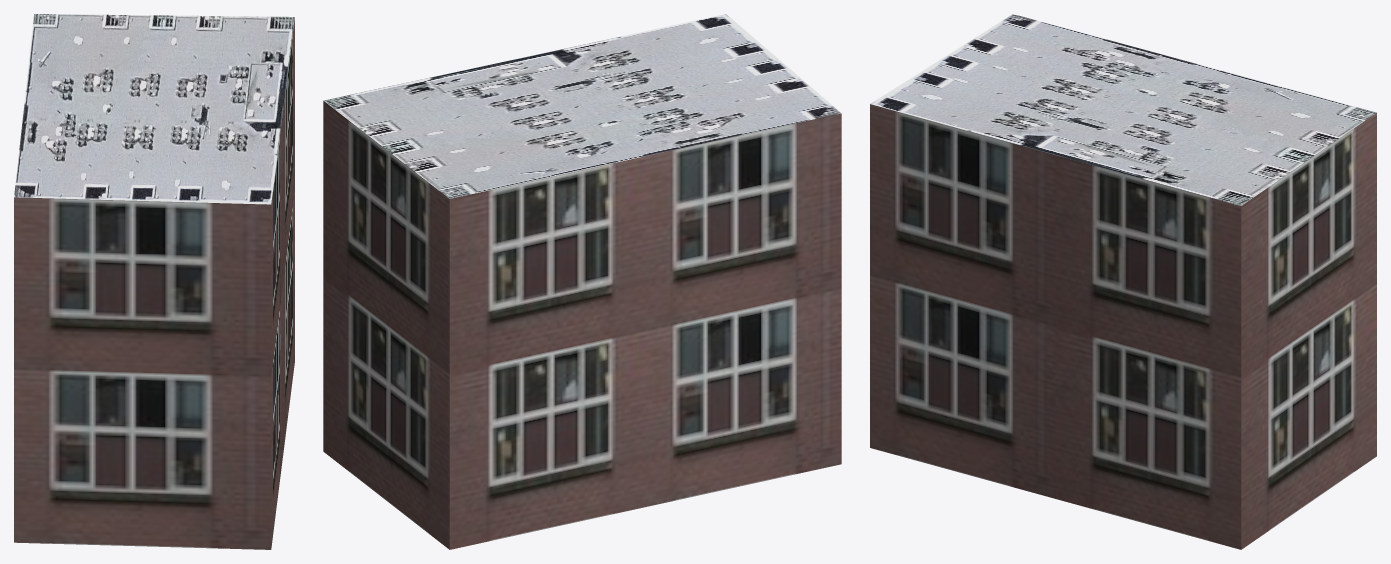
The model's file is ResTex__2743.fbx.
3 views of the same model, side by side, from view 1: azimuth 30°, elevation 25°; view 2: azimuth 150°, elevation 25°; view 3: azimuth 270°, elevation 25° (orthographic). The views are drawn at different scales.
Visible parts, largest first — view 1: CityEngineMaterial_12_m, CityEngineMaterial_8_m; view 2: CityEngineMaterial_12_m, CityEngineMaterial_8_m; view 3: CityEngineMaterial_12_m, CityEngineMaterial_8_m.
Boxes of the visible parts, x1,y1,x2,y2 form: CityEngineMaterial_12_m: (14, 17, 294, 549); CityEngineMaterial_8_m: (14, 14, 294, 204); CityEngineMaterial_12_m: (323, 101, 841, 549); CityEngineMaterial_8_m: (323, 14, 841, 198); CityEngineMaterial_12_m: (870, 104, 1376, 549); CityEngineMaterial_8_m: (870, 14, 1376, 205).
Bounding box in the file's own units: 7.19 × 6 × 8.02.
Materials: 2 (2 with a texture image).
